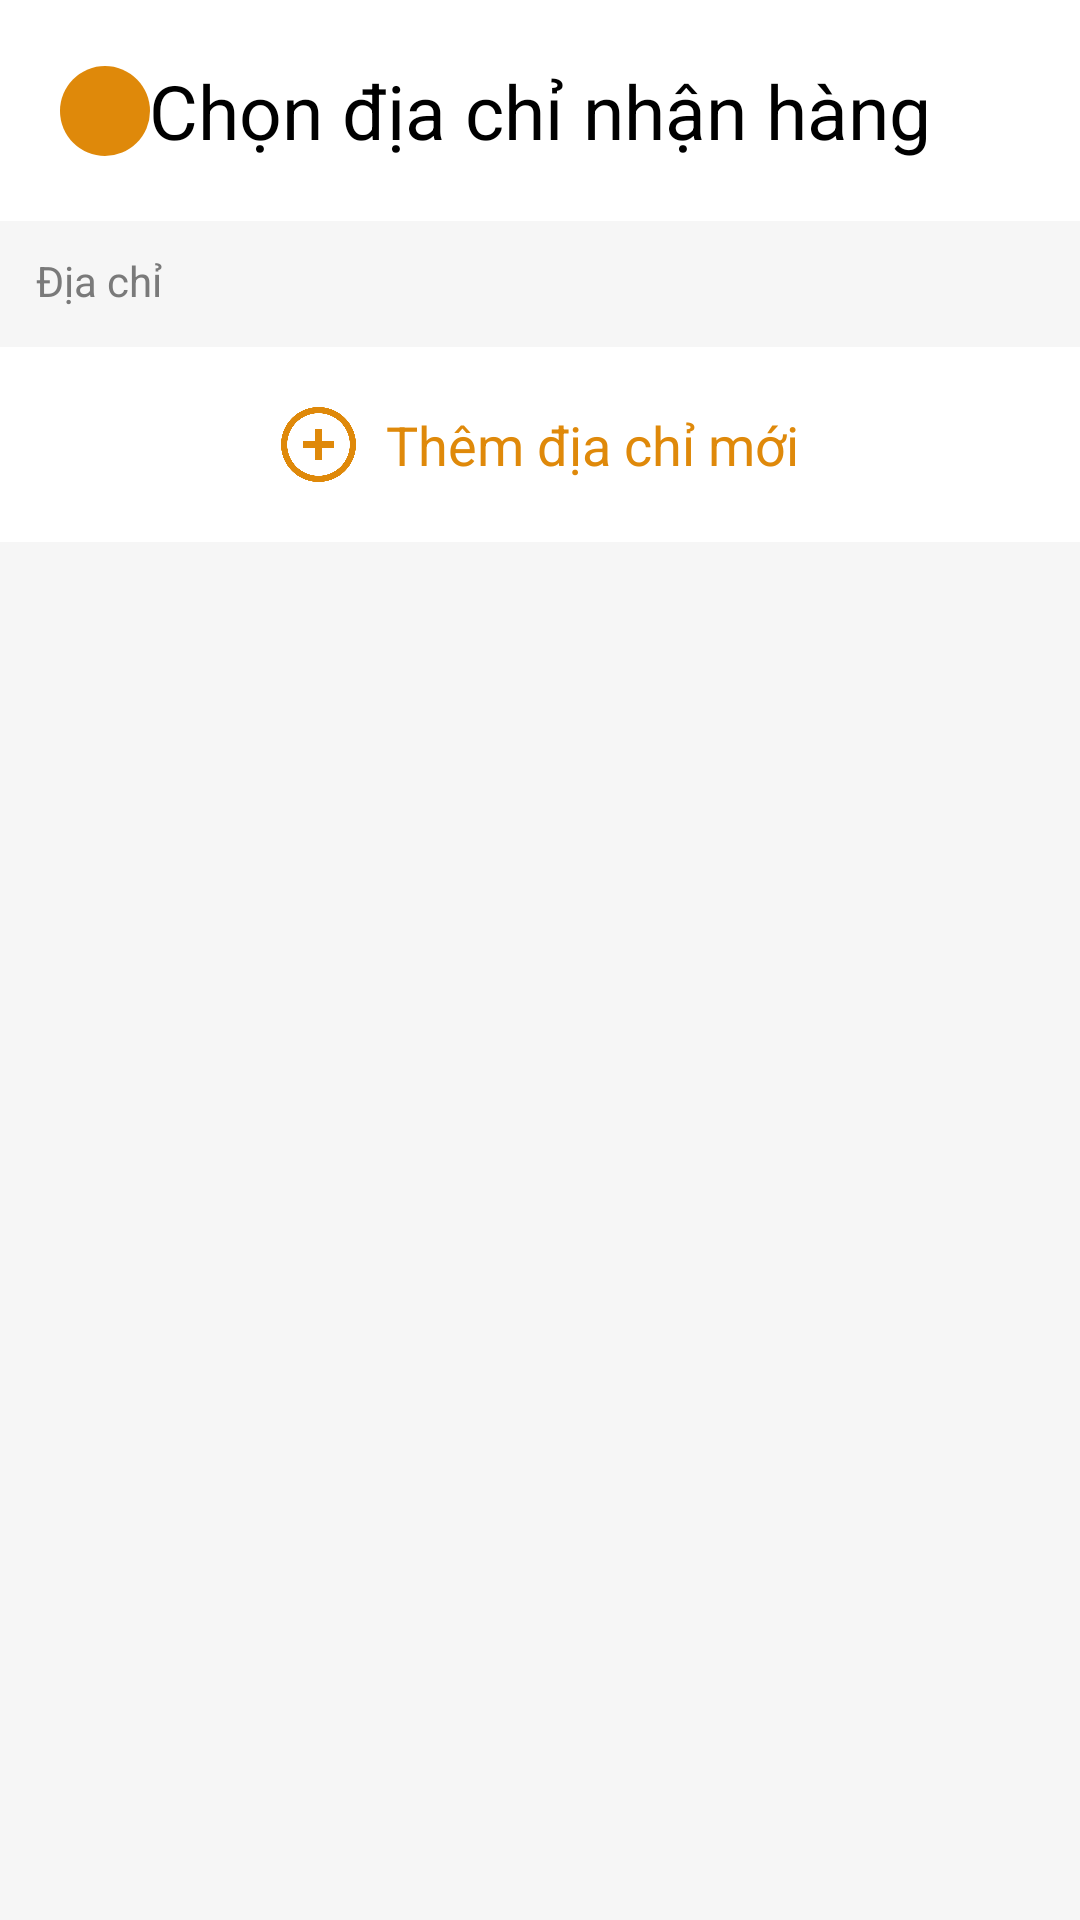

Screen size 1080*1920. Icon name, then its center in pixels as (x=x, y=y):
add: (x=318, y=444)
